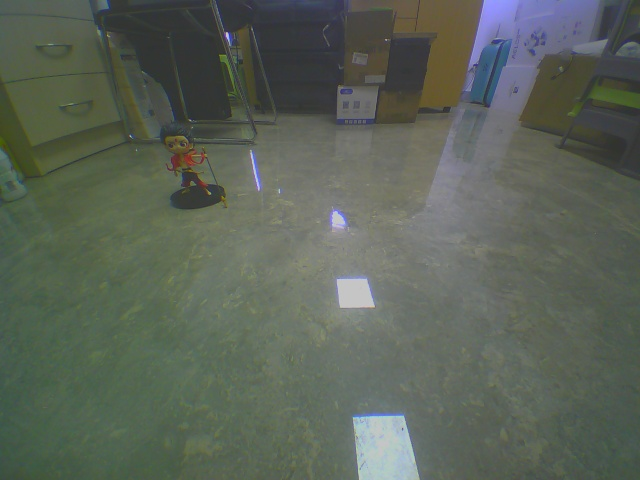Nezha: (137, 125, 240, 215)
